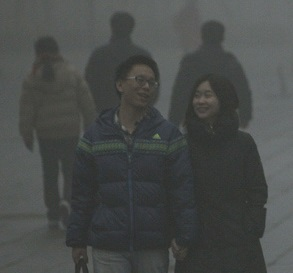person: (69, 57, 184, 273), (180, 75, 271, 273), (19, 35, 99, 232), (169, 17, 251, 132), (83, 13, 162, 125)
